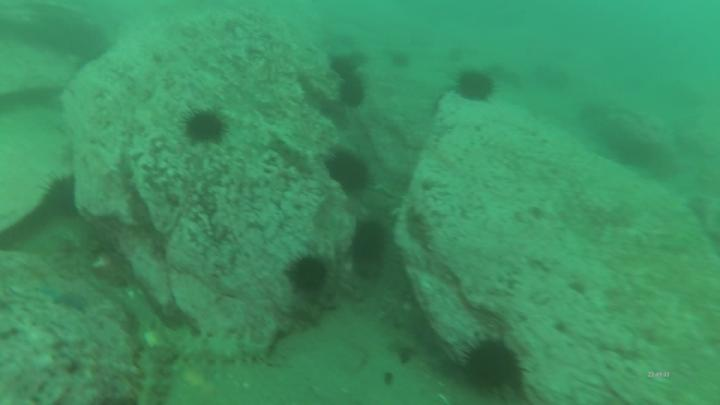echinus: (454, 330, 527, 403), (323, 148, 375, 197), (178, 107, 231, 151), (284, 250, 332, 297), (347, 218, 392, 265), (41, 172, 78, 223), (453, 67, 498, 106), (338, 73, 369, 113), (329, 53, 361, 79), (390, 50, 414, 72)
holothurian: (160, 324, 276, 372), (129, 346, 173, 405)
